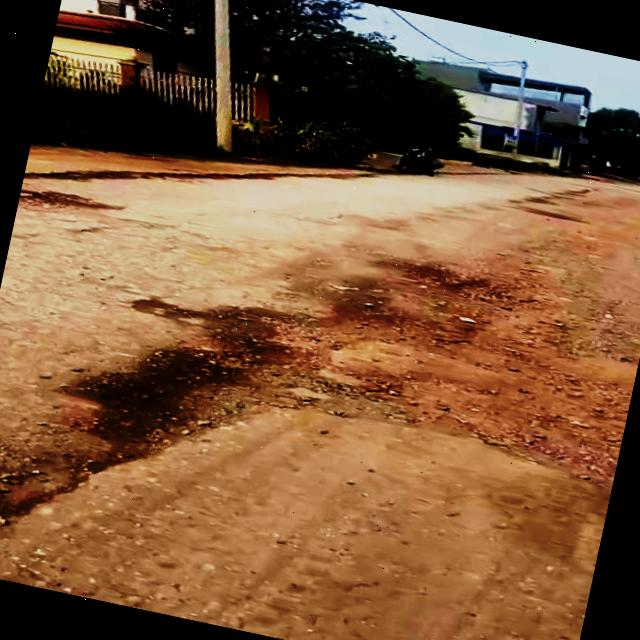pothole: (79, 299, 628, 542), (337, 238, 640, 396), (18, 179, 118, 224)
